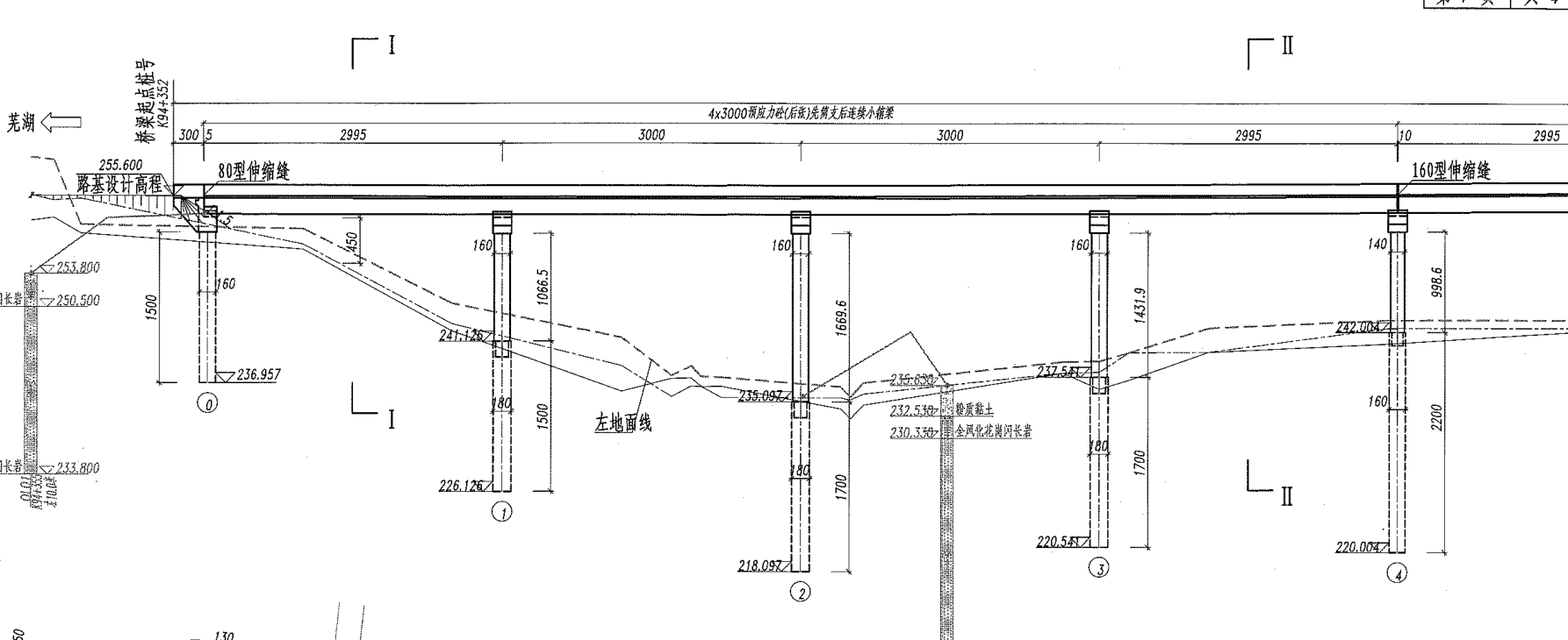A: (169, 92, 1568, 110)
B: (193, 101, 1412, 132)
C: (723, 216, 830, 615), (1021, 210, 1126, 588), (1320, 214, 1421, 597), (428, 208, 529, 531), (183, 202, 291, 419)
